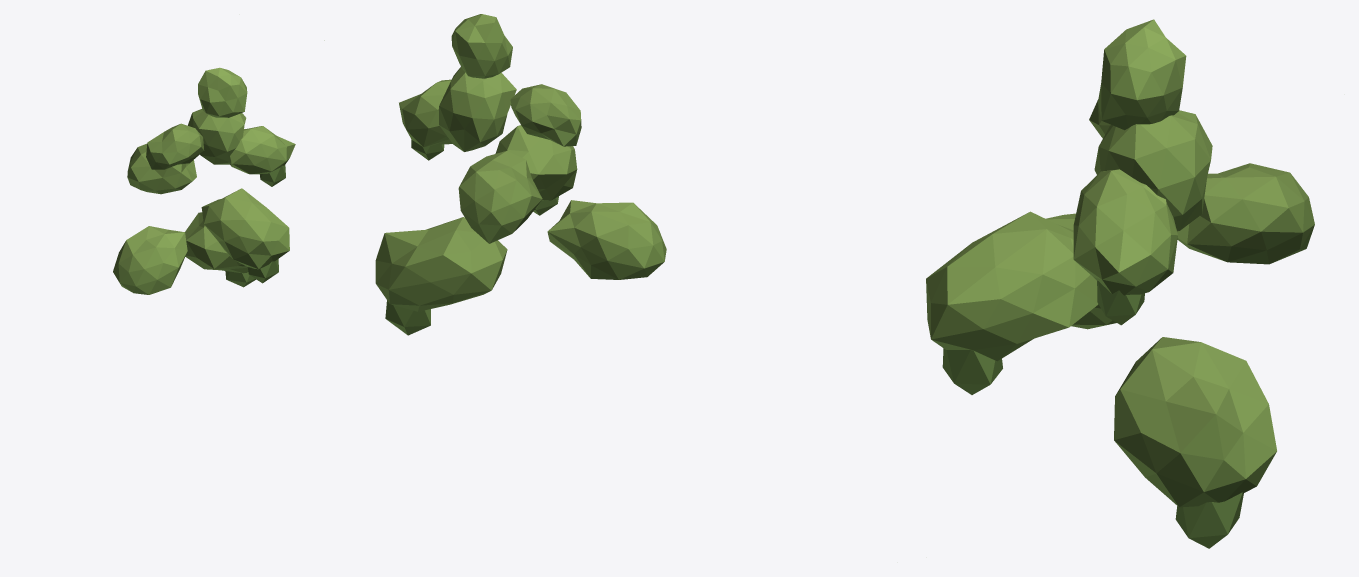
The model's file is BirchLean1_leaf.glb.
The picture shows the model from 3 angles, left to right: view 1: azimuth 30°, elevation 25°; view 2: azimuth 150°, elevation 25°; view 3: azimuth 270°, elevation 25°; orthographic projection. The views are drawn at different scales.
Visible parts, largest first — view 1: BirchLean1_leaf; view 2: BirchLean1_leaf; view 3: BirchLean1_leaf.
Boxes of the visible parts, bbox=[...] form: BirchLean1_leaf: bbox=[113, 67, 295, 294]; BirchLean1_leaf: bbox=[324, 14, 666, 335]; BirchLean1_leaf: bbox=[926, 19, 1314, 548].
Size of the model in its own units: 15.59 by 17.72 by 8.58.
